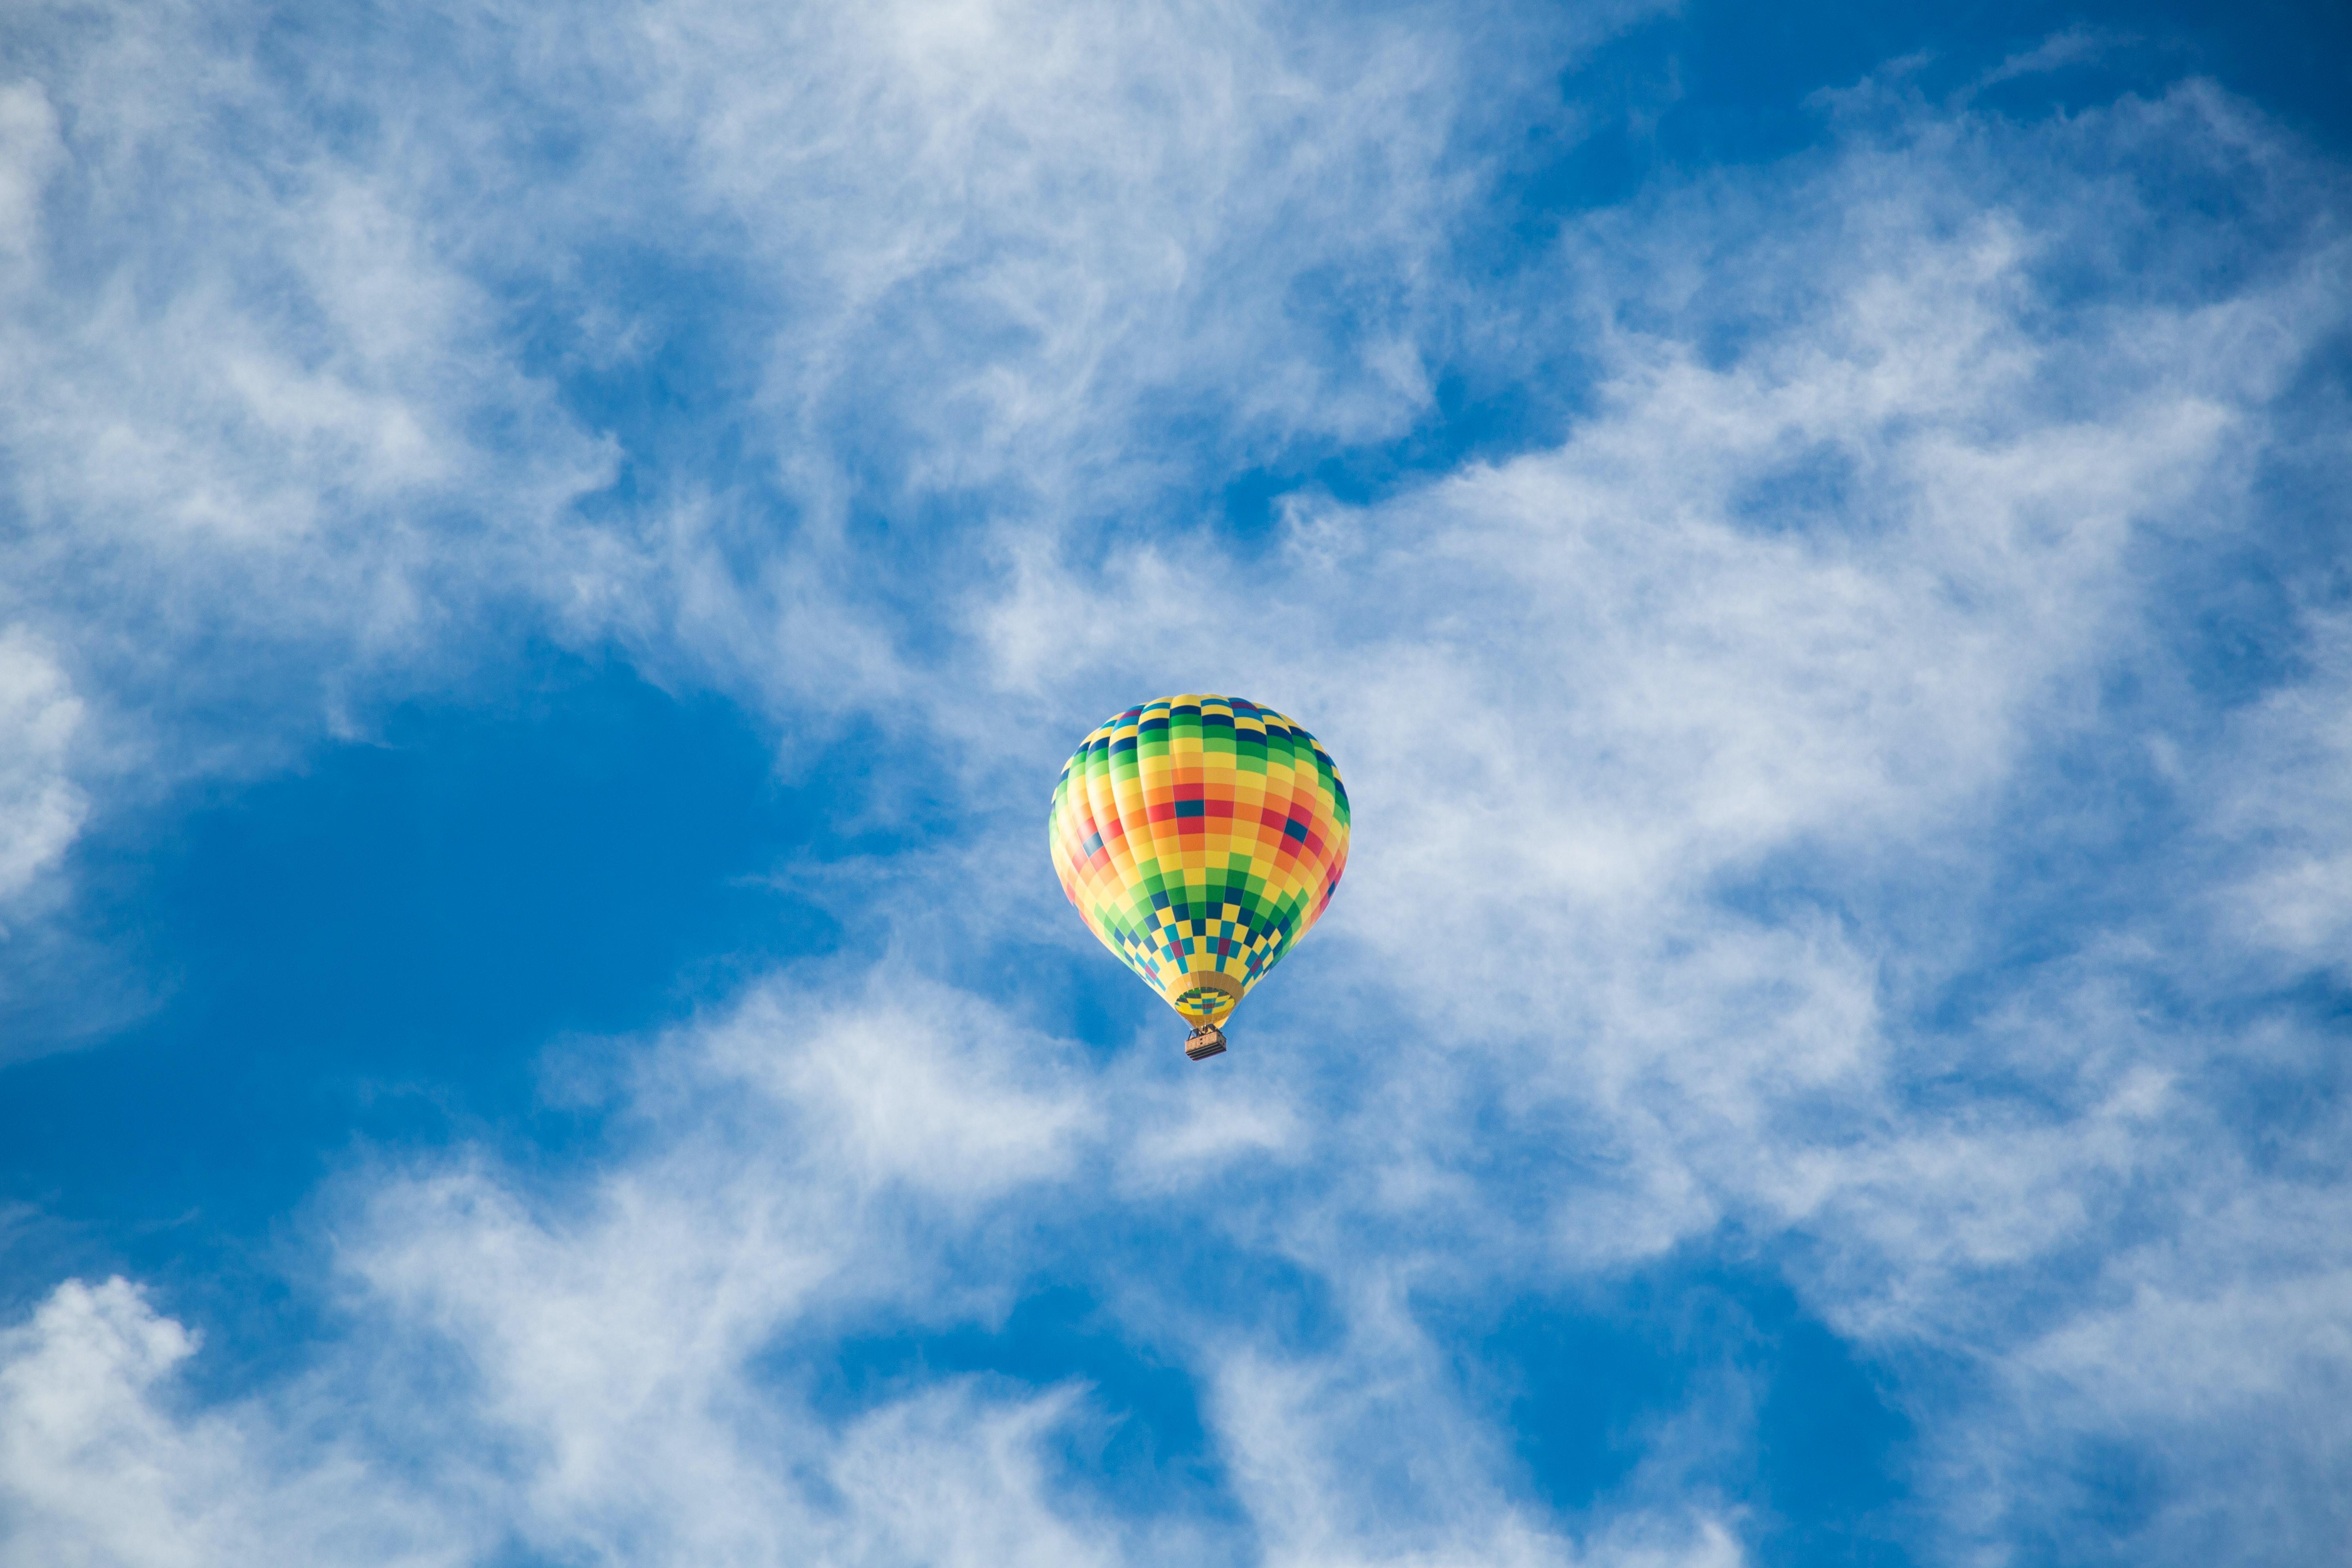hot air ballon: (1046, 693, 1351, 1064)
